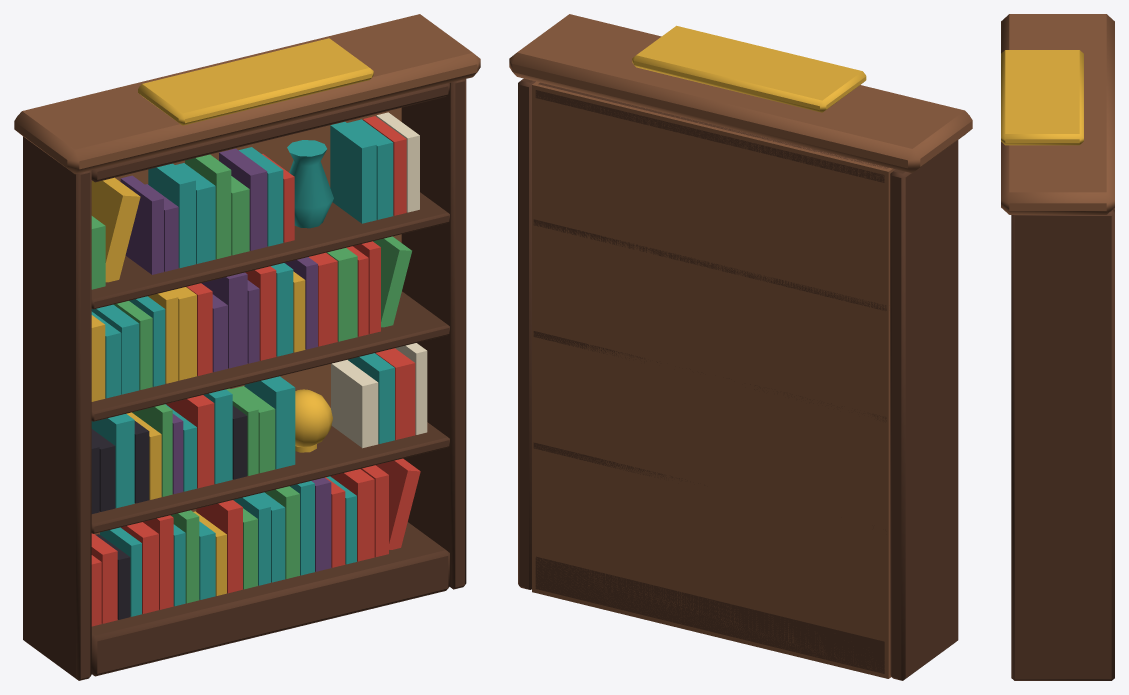
The model's file is bookshelf.glb.
3 views of the same model, side by side, from view 1: azimuth 30°, elevation 25°; view 2: azimuth 150°, elevation 25°; view 3: azimuth 270°, elevation 25° (orthographic). The views are drawn at different scales.
Visible parts, largest first — view 1: bookshelf; view 2: bookshelf; view 3: bookshelf.
Boxes of the visible parts, x1=… form: bookshelf: x1=14, y1=14, x2=480, y2=680; bookshelf: x1=509, y1=14, x2=972, y2=680; bookshelf: x1=1001, y1=14, x2=1114, y2=680.
Bounding box in the file's own units: 2.12 × 2.68 × 0.55.
